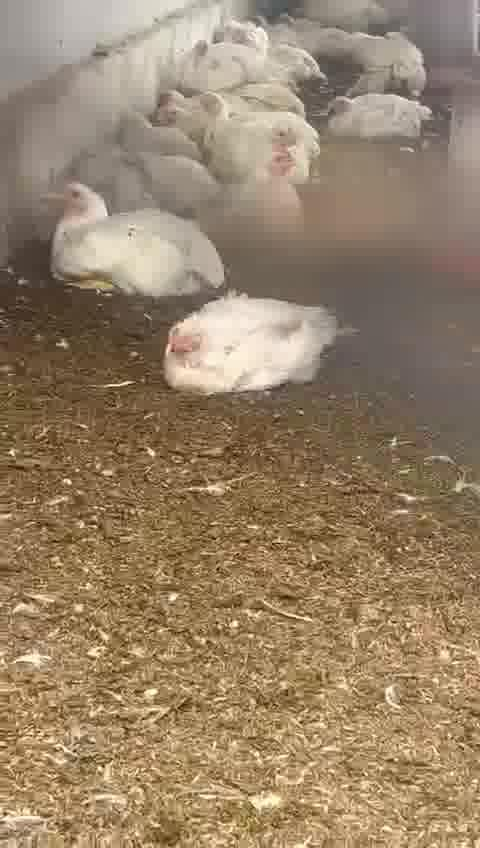AbNormal: (151, 292, 350, 404), (85, 138, 193, 210), (118, 107, 188, 159), (148, 81, 197, 128)
Normal: (35, 172, 227, 305), (210, 151, 315, 249), (190, 90, 332, 154), (311, 81, 442, 145)
